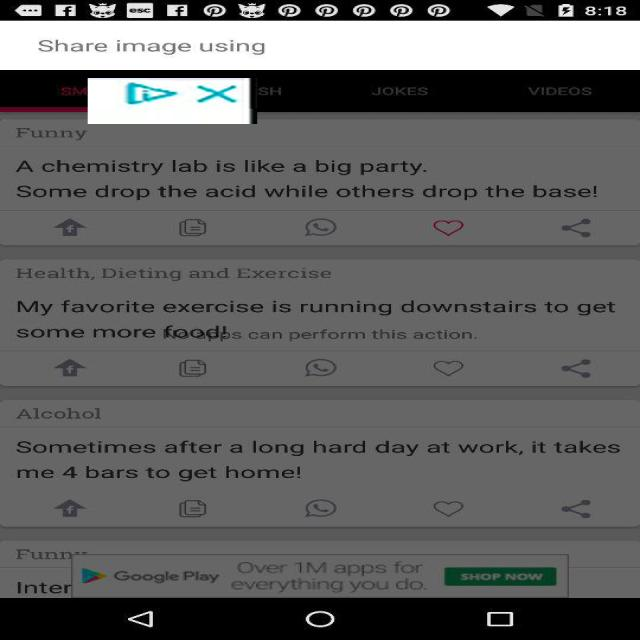sneaking: (88, 78, 257, 124)
